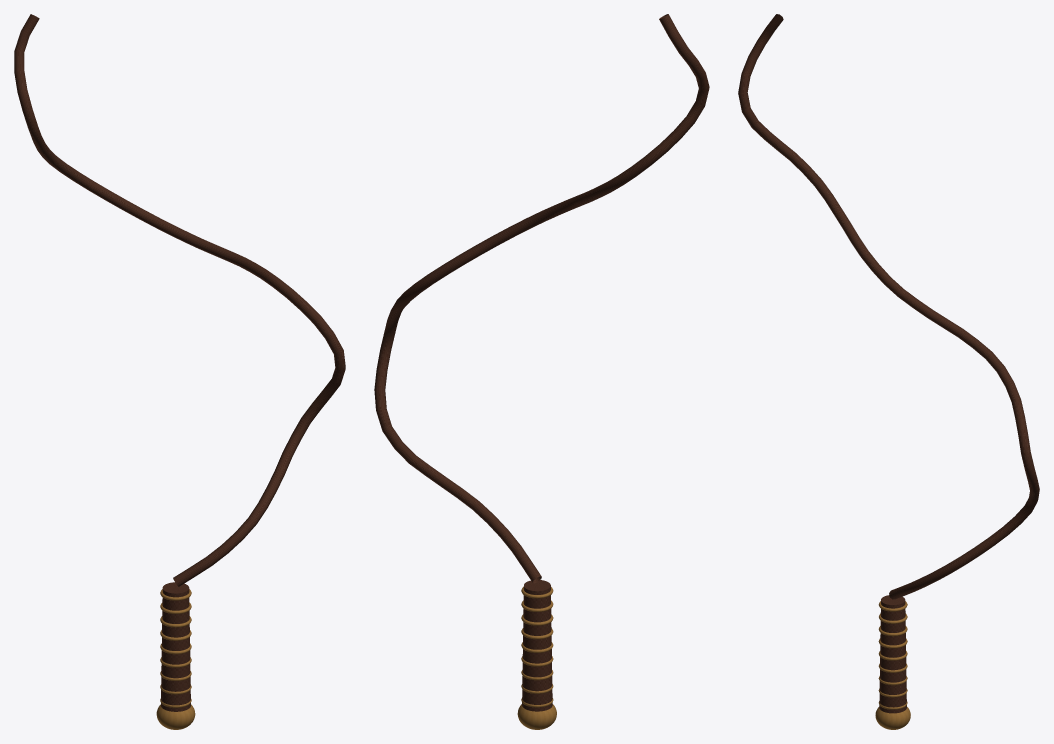
File: whip.glb
3 views of the same model, side by side, from view 1: azimuth 30°, elevation 25°; view 2: azimuth 150°, elevation 25°; view 3: azimuth 330°, elevation 25° (orthographic). The views are drawn at different scales.
Parts seen in each view (by area): view 1: leather.11, leather.0, brass.10; view 2: leather.11, leather.0, brass.10; view 3: leather.11, leather.0, brass.10.
Part boxes in pixels (x1,y1,x2,y2): leather.11: (14,14,345,586); leather.0: (161,582,190,711); brass.10: (156,704,195,729); leather.11: (374,14,709,583); leather.0: (522,580,552,711); brass.10: (517,704,556,729); leather.11: (738,14,1039,599); leather.0: (879,595,906,713); brass.10: (875,707,910,729).
Bounding box in the file's own units: 0.6171 × 1.35 × 0.0769.
Materials: 2 (2 with a texture image).
